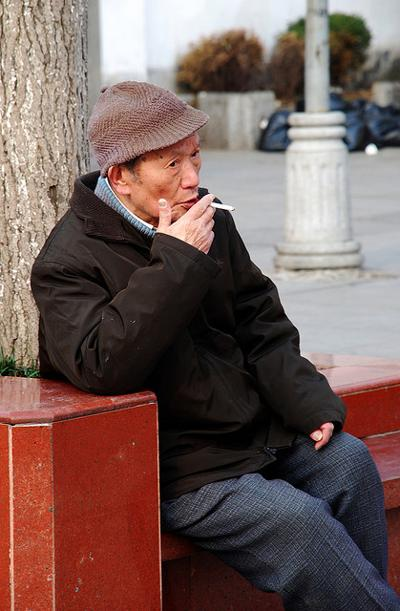person: (31, 80, 400, 611)
